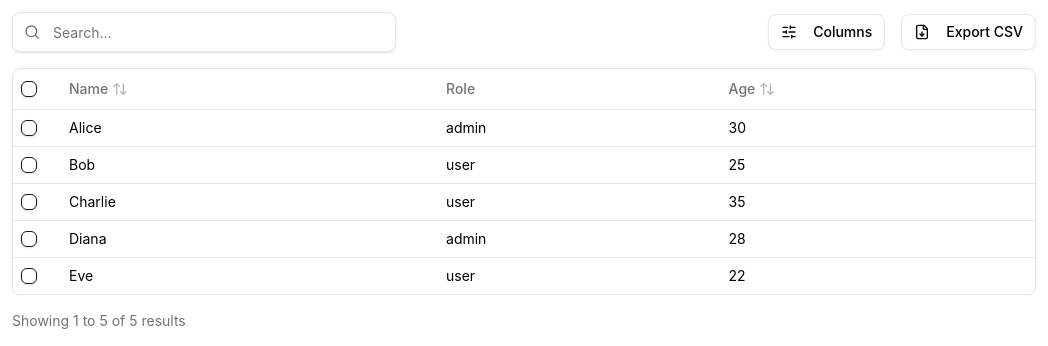
DataTable › Search › shows "No results found" when search matches nothing
In the field with placeholder "Search...": (204, 32) [12,12,396,52], type "zzznomatch"
Wait 1100 ms
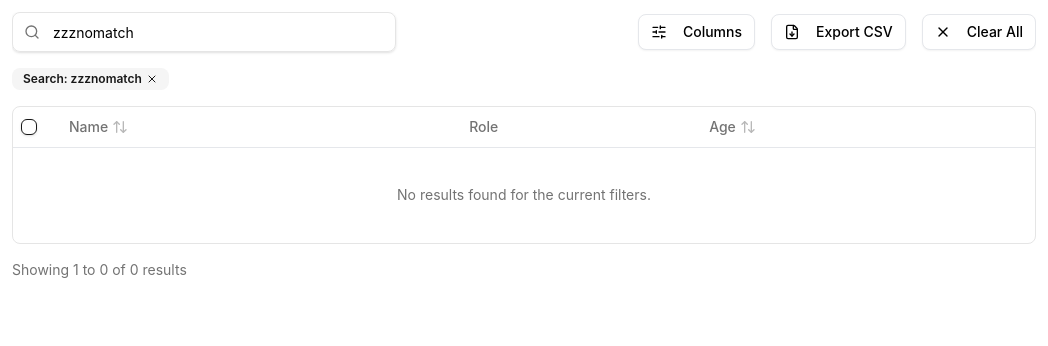
Check: the text "No results found for the current filters." is shown, box [13,147,1035,243]
